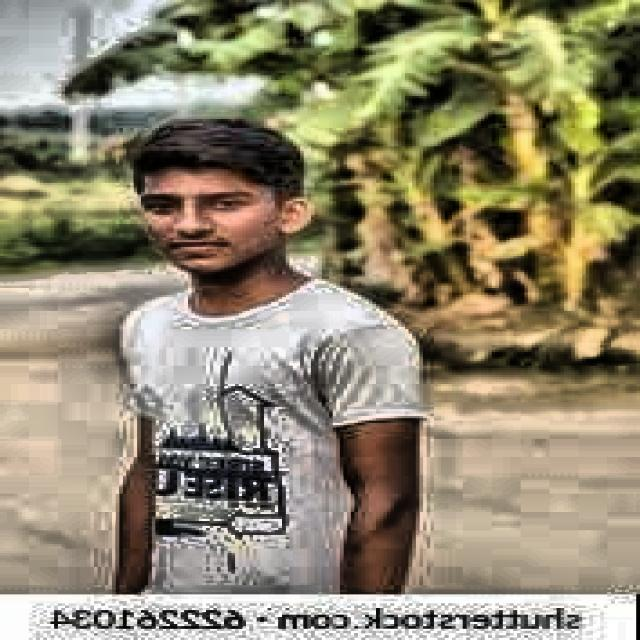Human: (76, 96, 458, 609)
